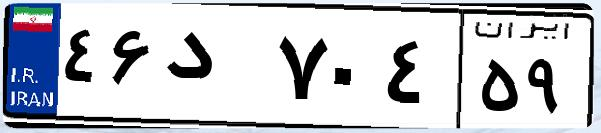0: (330, 28, 385, 110)
4: (385, 28, 445, 110), (57, 26, 110, 100)
5: (475, 38, 525, 113)
6: (110, 28, 158, 98)
7: (270, 28, 330, 110)
9: (525, 38, 570, 115)
د: (158, 20, 270, 120)
